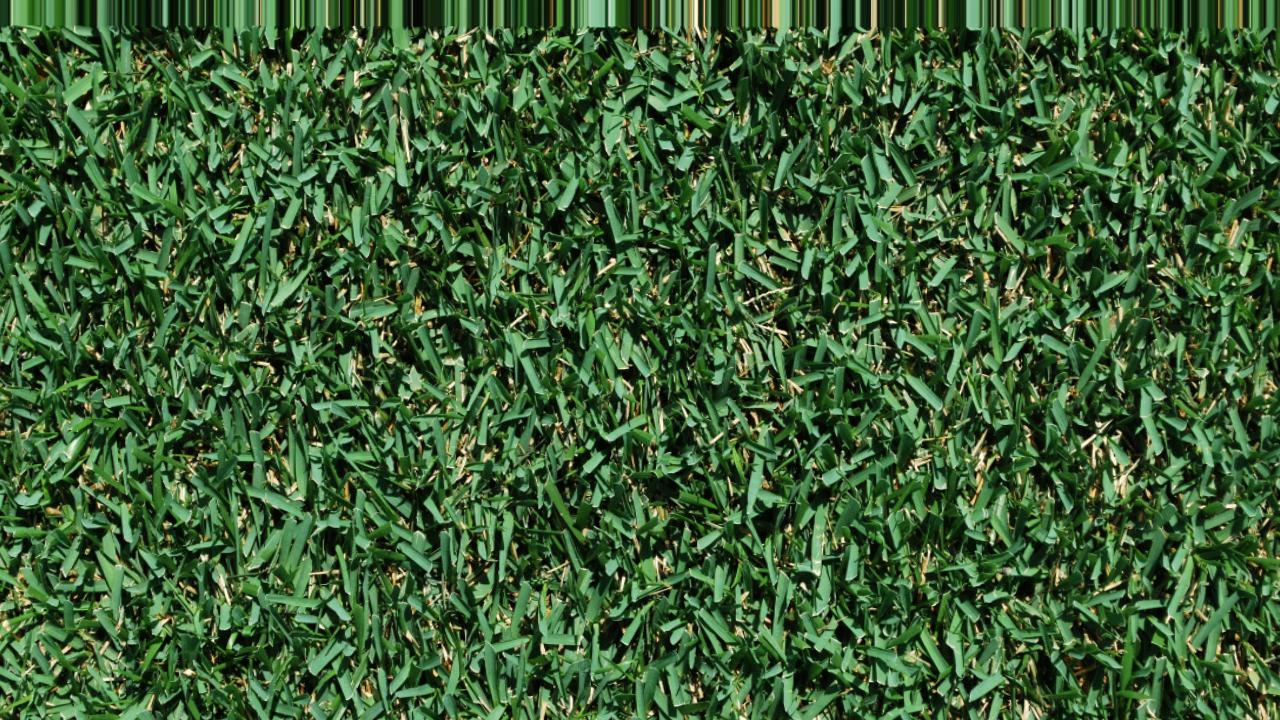patch: (1064, 425, 1137, 503)
